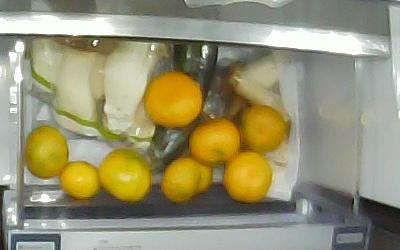tangerine: (142, 70, 203, 127), (220, 149, 272, 203), (96, 154, 150, 202), (23, 123, 69, 179), (236, 103, 286, 153), (187, 116, 240, 163), (161, 154, 199, 202), (58, 159, 100, 199), (196, 160, 213, 193)
